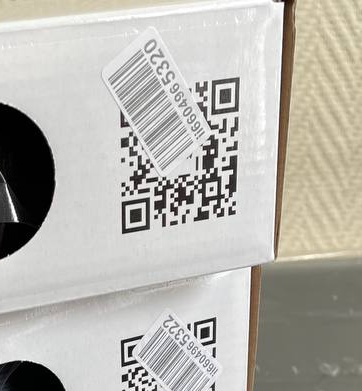2d: (116, 75, 240, 235)
